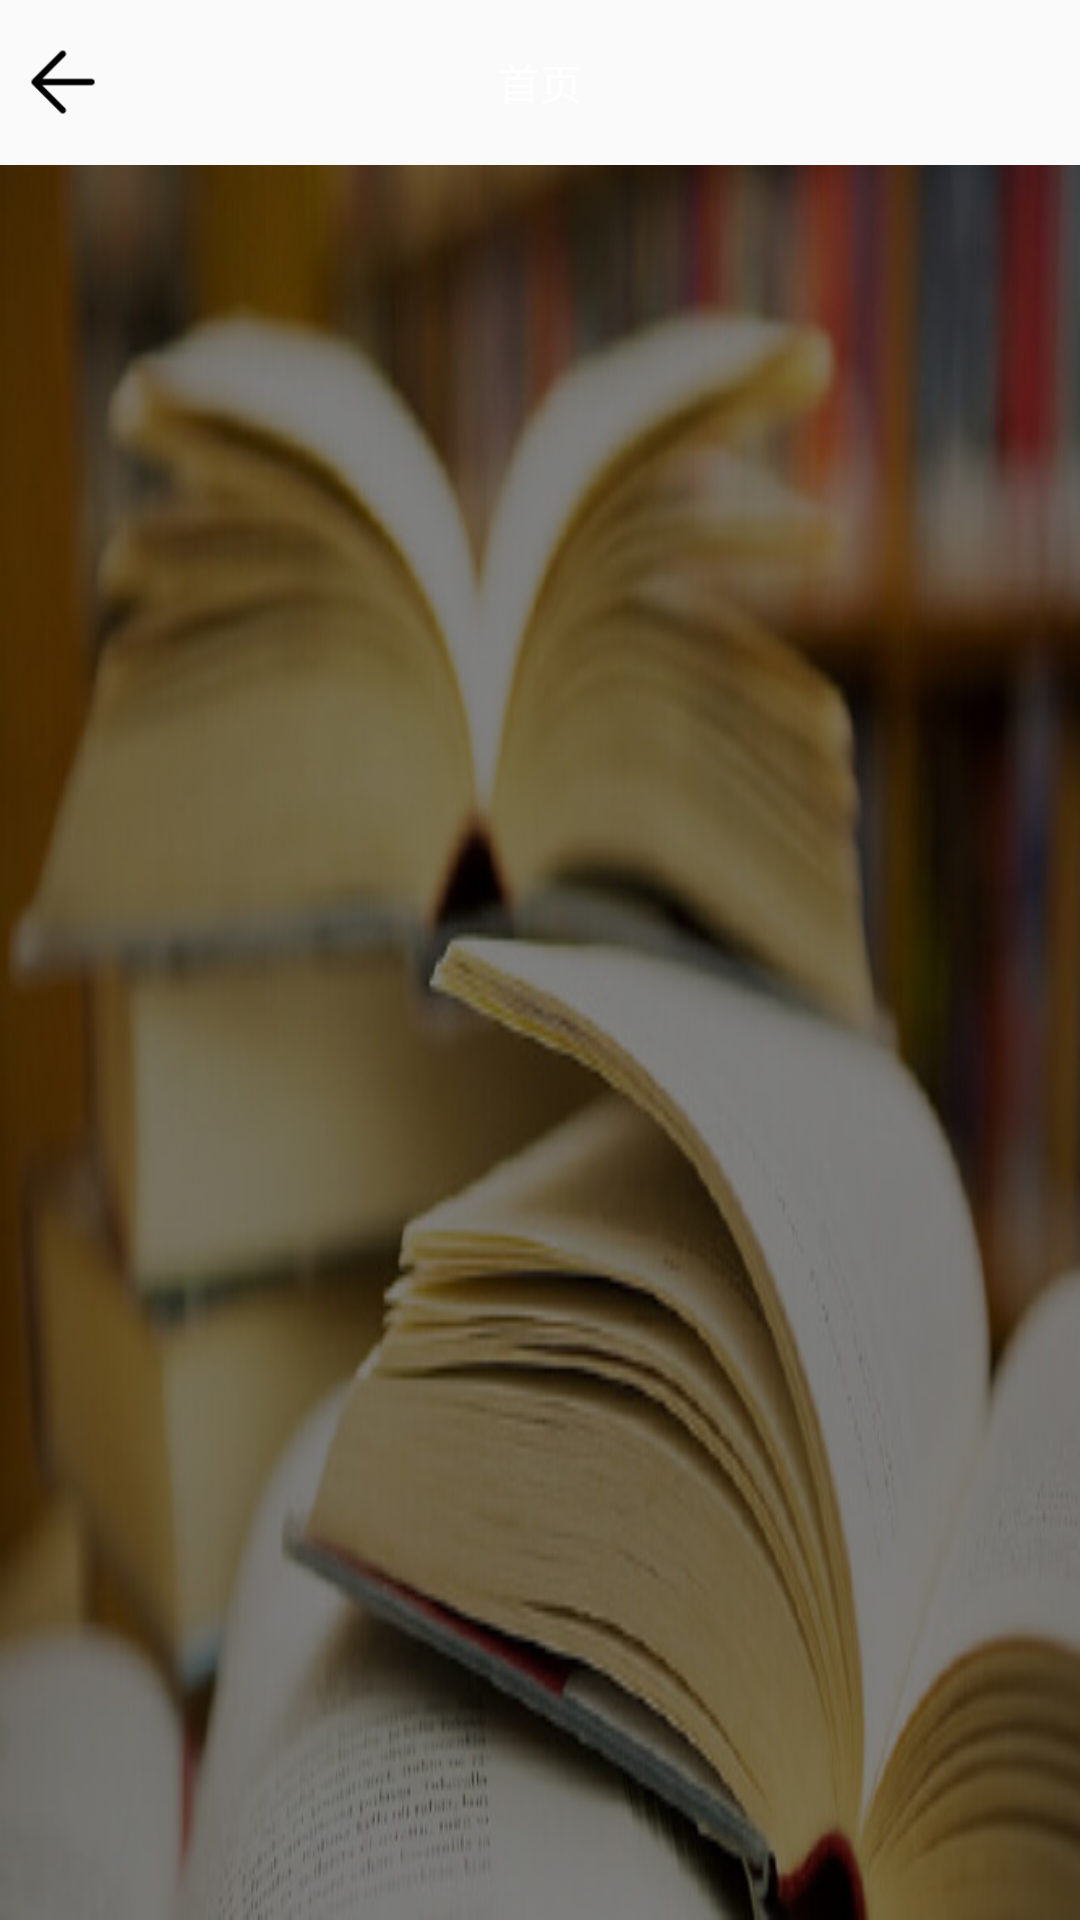

Named icons in this screenshot (1080px×1920px) and their centers, (x=x, y=y):
return: (x=63, y=82)
